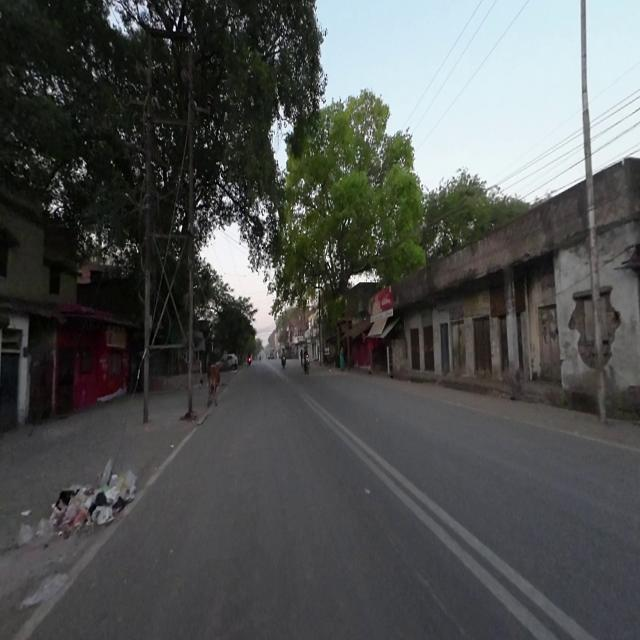Garbage: (53, 475, 133, 534)
